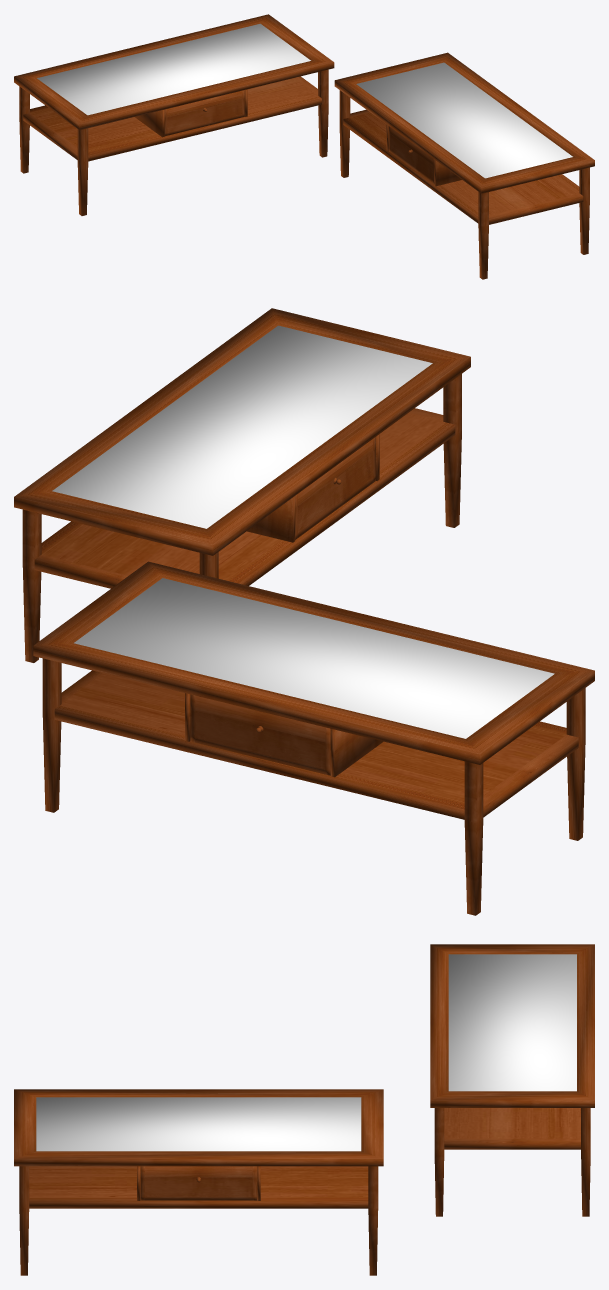
The model's file is saloon_table.glb.
3 views of the same model, one above another, from view 1: azimuth 30°, elevation 25°; view 2: azimuth 150°, elevation 25°; view 3: azimuth 270°, elevation 25° (orthographic). The views are drawn at different scales.
Parts seen in each view (by area): view 1: table1_Cube.078, table2_Cube.001, glass1_Cube.114, glass2_Cube; view 2: table1_Cube.078, table2_Cube.001, glass1_Cube.114, glass2_Cube; view 3: table2_Cube.001, glass2_Cube, glass1_Cube.114, table1_Cube.078.
Part boxes in pixels (bbox=[...]): table1_Cube.078: bbox=[14, 14, 334, 215]; table2_Cube.001: bbox=[334, 52, 594, 279]; glass1_Cube.114: bbox=[37, 23, 310, 115]; glass2_Cube: bbox=[356, 62, 572, 178]; table1_Cube.078: bbox=[33, 561, 594, 915]; table2_Cube.001: bbox=[14, 308, 470, 662]; glass1_Cube.114: bbox=[74, 578, 554, 738]; glass2_Cube: bbox=[52, 325, 432, 528]; table2_Cube.001: bbox=[14, 1089, 383, 1275]; glass2_Cube: bbox=[36, 1097, 361, 1151]; glass1_Cube.114: bbox=[448, 954, 576, 1091]; table1_Cube.078: bbox=[430, 944, 594, 1216].
Size of the model in its own units: 1.98 by 0.5113 by 2.26.
2 materials, 1 textured.
